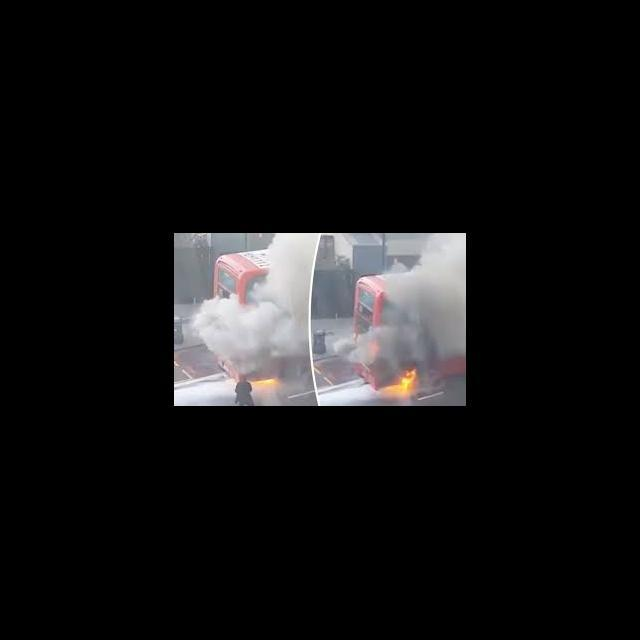Fire: (378, 368, 419, 398), (252, 378, 279, 388)
Smoke: (338, 234, 465, 366), (196, 295, 310, 361)
